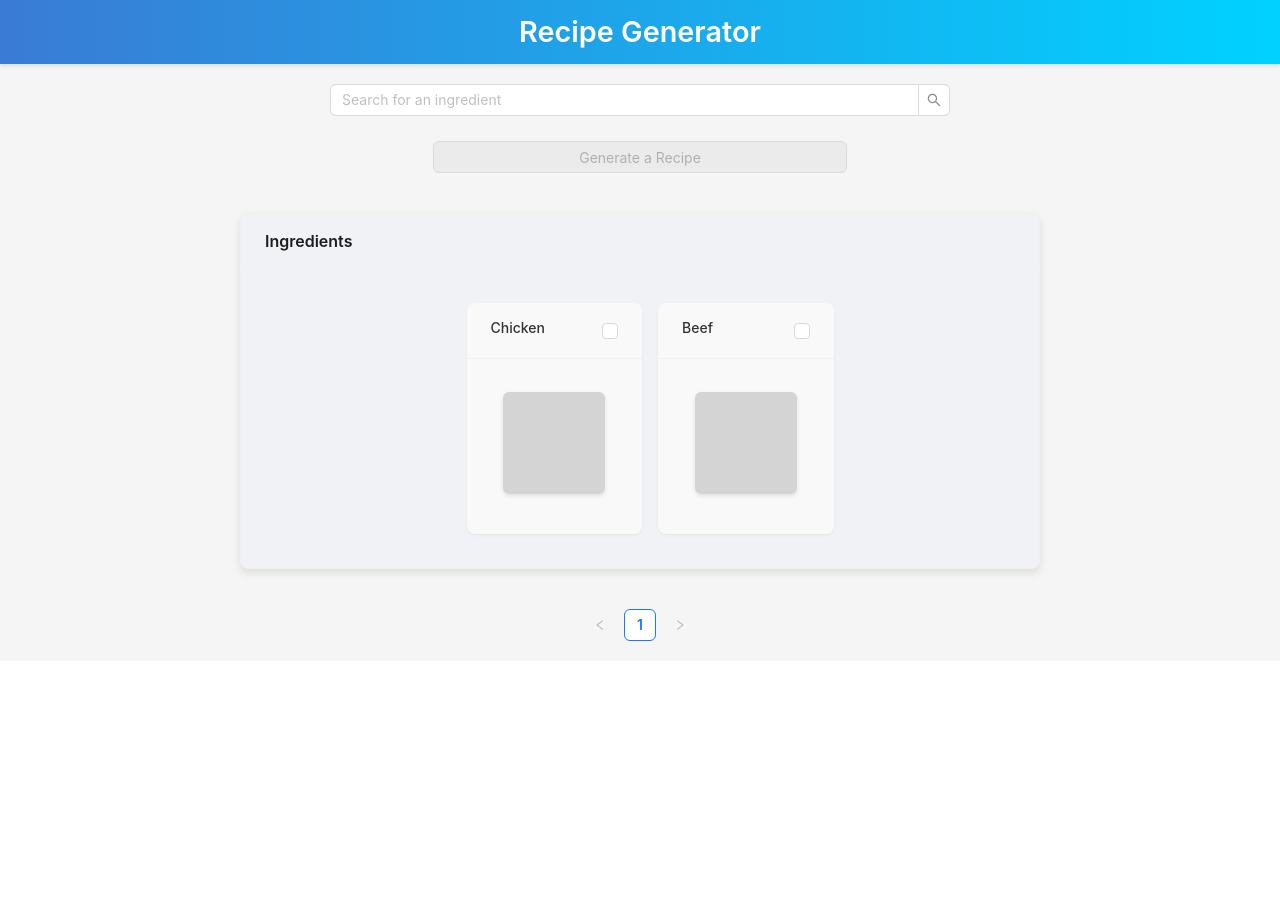
Test: Home component › allows ingredient search functionality
This screenshot has width=1280, height=900.
Expected: the text "Chicken" is shown, [490,316,545,338]
In the search field with test id "search-input": [624, 100] box [330,84,919,116], type "Beef"
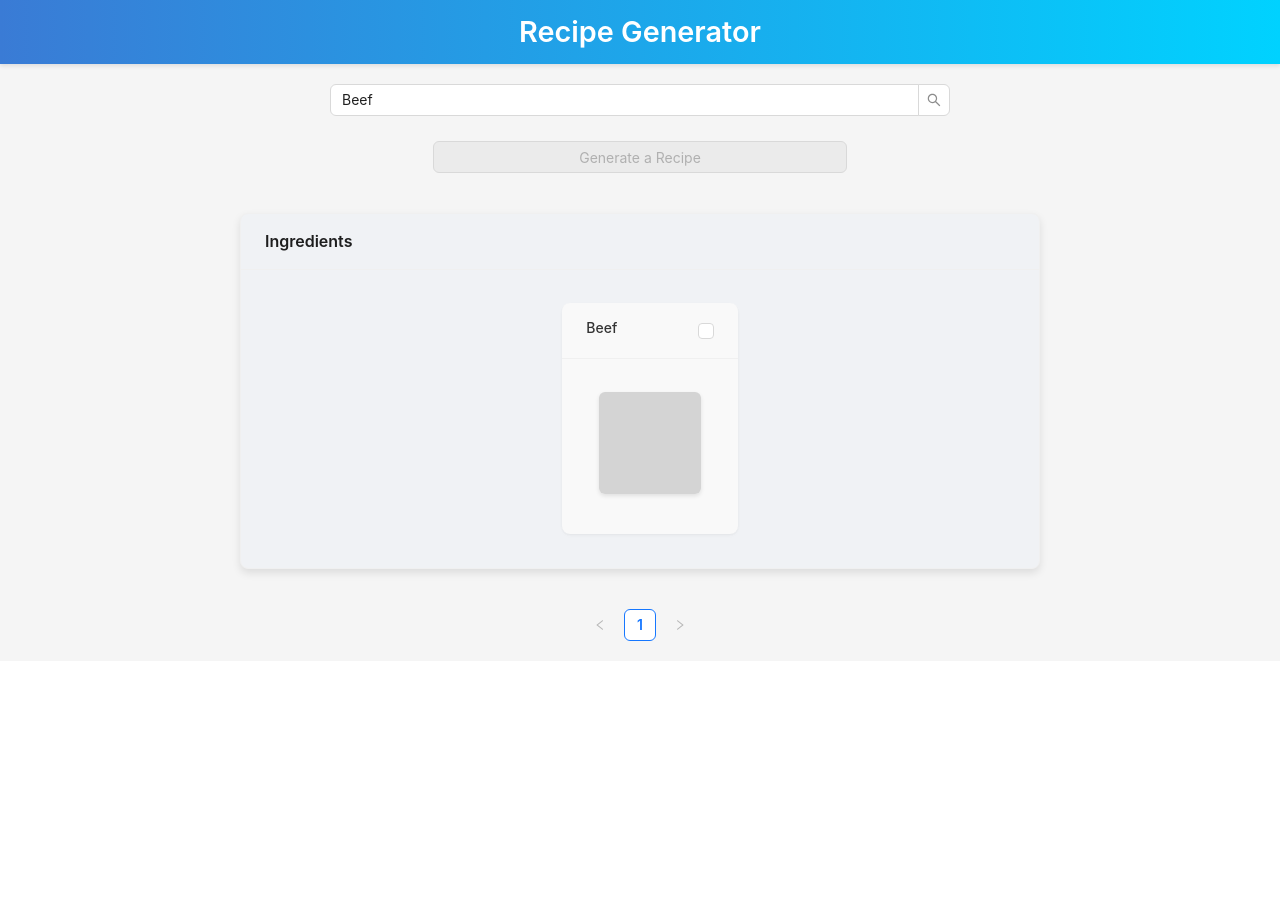
Expected: the text "Beef" is shown, [586,316,617,338]
Result: the text "Chicken" is gone
